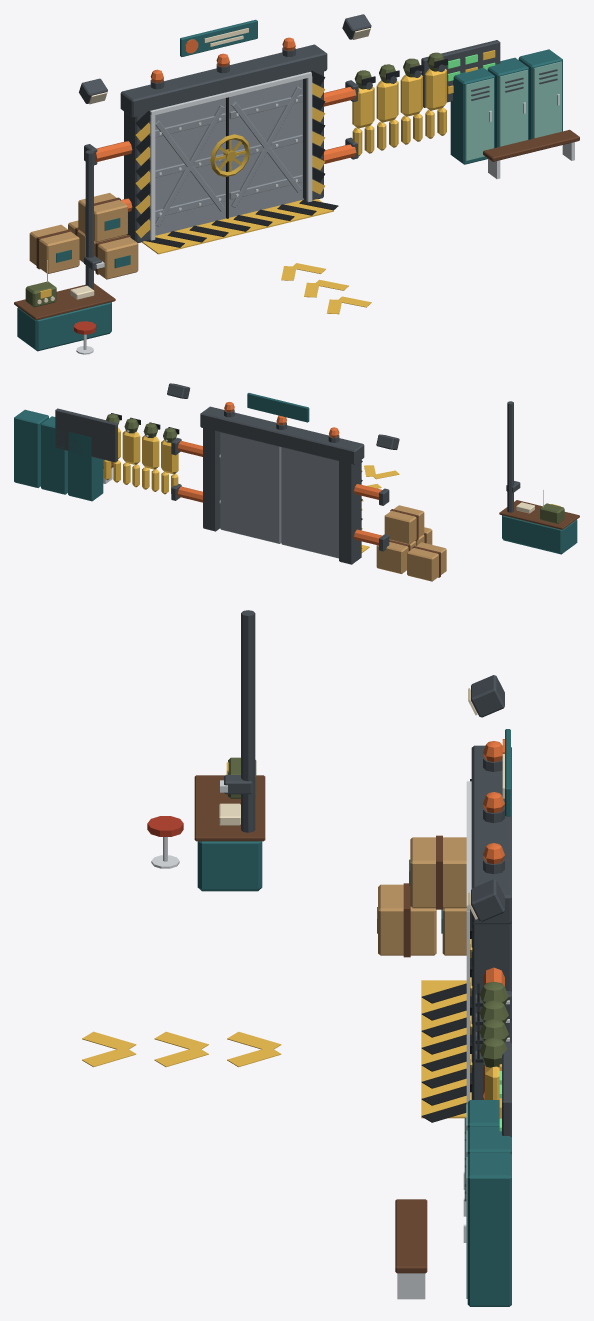
File: Kit_BlastDoor_L3.fbx
3 views of the same model, one above another, from view 1: azimuth 30°, elevation 25°; view 2: azimuth 150°, elevation 25°; view 3: azimuth 270°, elevation 25° (orthographic). The views are drawn at different scales.
Visible parts, largest first — view 1: Decor, Leaves, Frame, Crates, GuardDesk, Lockers, Bench, DecorNeon; view 2: Leaves, Decor, Frame, Lockers, Crates, GuardDesk, DecorNeon; view 3: Decor, Lockers, Crates, Frame, GuardDesk, Bench, DecorNeon.
Boxes of the visible parts, left/top/right/bottom form: Decor: left=25, top=14, right=561, bottom=354; Leaves: left=155, top=79, right=302, bottom=235; Frame: left=120, top=44, right=327, bottom=242; Crates: left=29, top=193, right=138, bottom=279; GuardDesk: left=14, top=283, right=115, bottom=351; Lockers: left=450, top=49, right=562, bottom=164; Bench: left=483, top=129, right=579, bottom=179; DecorNeon: left=40, top=28, right=495, bottom=298; Leaves: left=220, top=432, right=338, bottom=558; Decor: left=55, top=383, right=564, bottom=577; Frame: left=200, top=406, right=364, bottom=564; Lockers: left=14, top=409, right=103, bottom=501; Crates: left=376, top=505, right=446, bottom=581; GuardDesk: left=499, top=500, right=579, bottom=554; DecorNeon: left=224, top=402, right=560, bottom=506; Decor: left=82, top=610, right=511, bottom=1298; Lockers: left=467, top=1100, right=511, bottom=1306; Crates: left=378, top=837, right=466, bottom=955; Frame: left=471, top=745, right=511, bottom=1099; GuardDesk: left=194, top=775, right=265, bottom=891; Bench: left=395, top=1199, right=427, bottom=1299; DecorNeon: left=226, top=688, right=504, bottom=1131.
Bounding box in the file's own units: 55.9 × 16.02 × 21.35.
